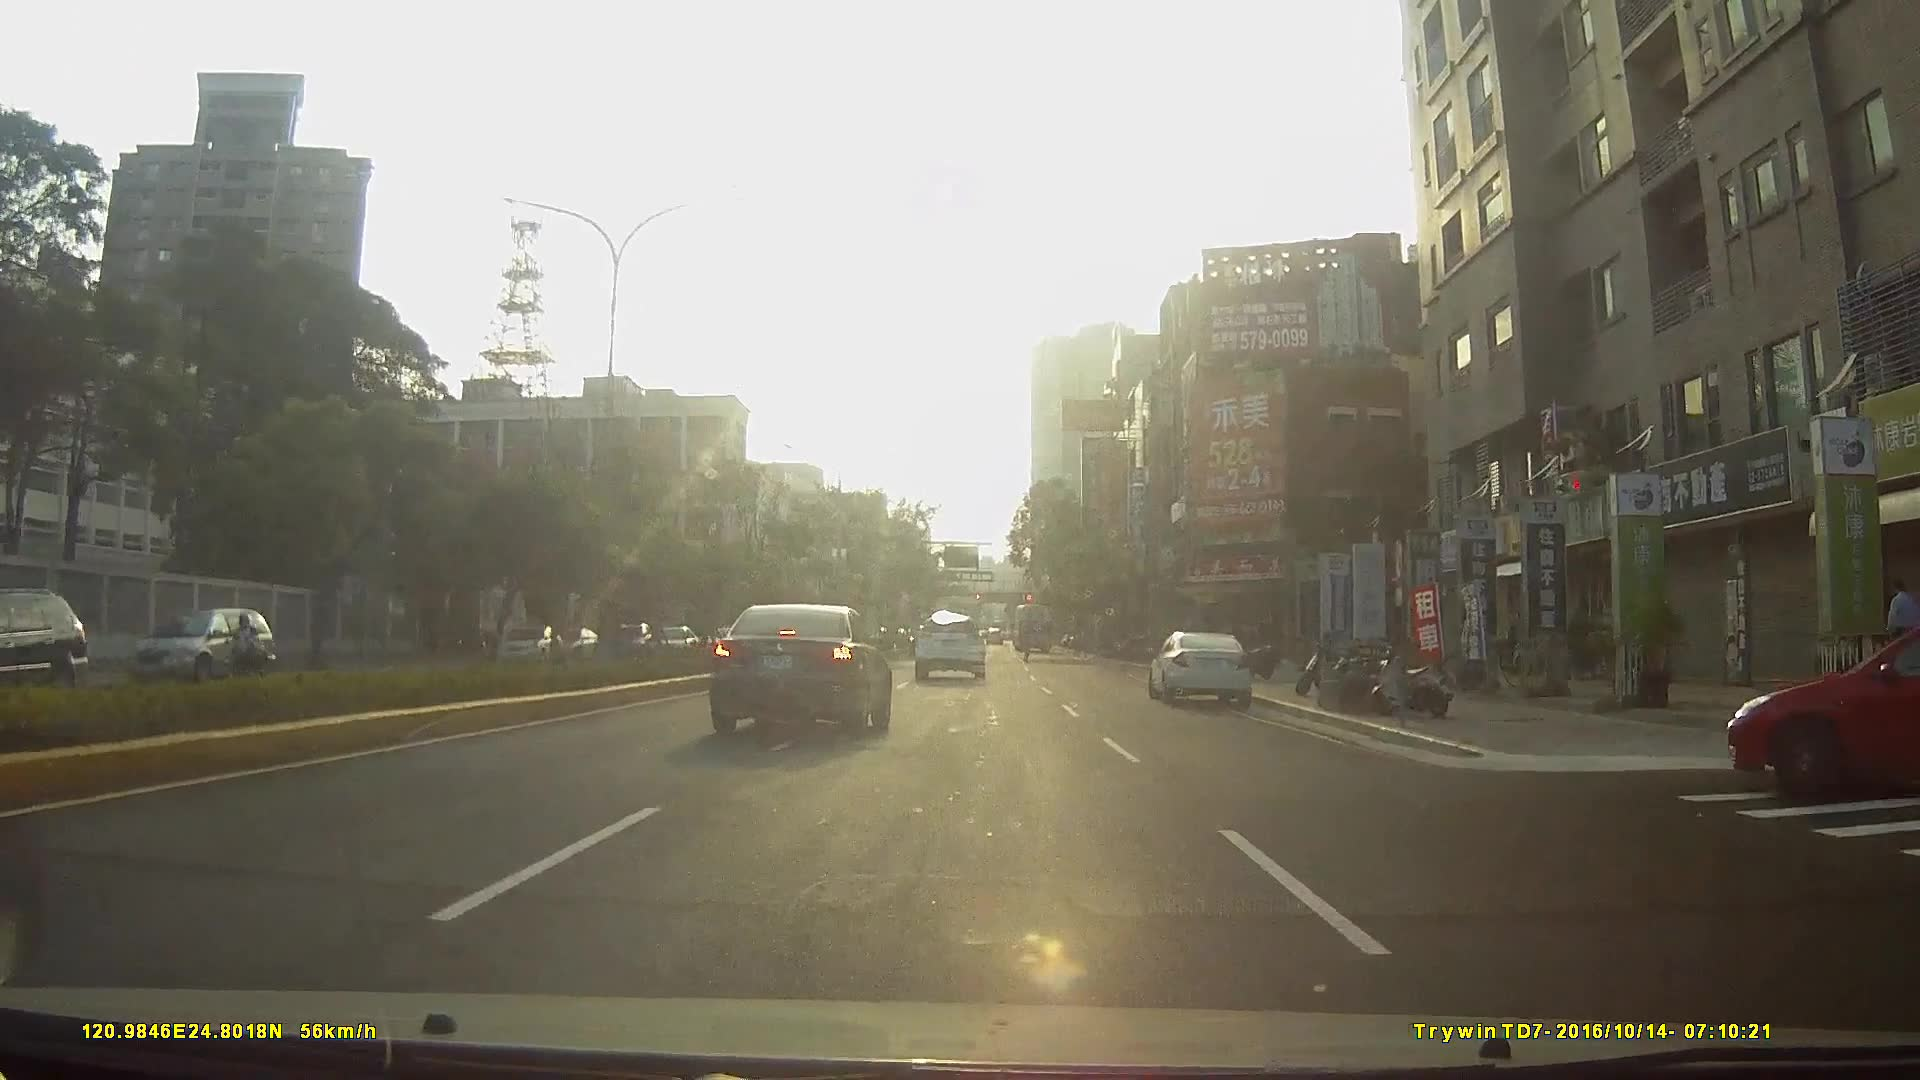pedestrian: (1884, 579, 1920, 694)
rider: (220, 612, 267, 698)
vehicle: (1723, 608, 1920, 795), (711, 602, 897, 739), (129, 607, 286, 696), (1150, 629, 1259, 709), (0, 585, 59, 699), (912, 614, 987, 684), (490, 623, 564, 666), (1009, 604, 1057, 655), (645, 625, 704, 667)
